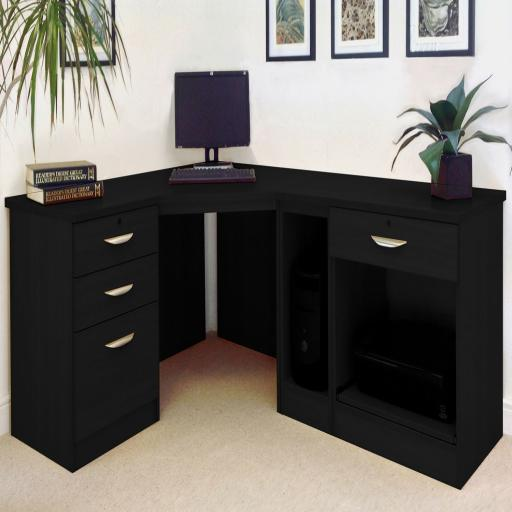desk: (4, 161, 507, 490)
wall: (211, 0, 512, 437), (0, 0, 211, 437)
